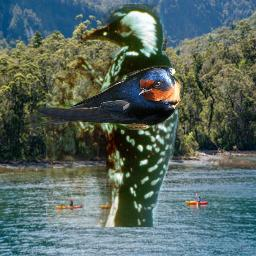Swallow: (20, 65, 183, 130)
Woodpecker: (46, 4, 178, 227)
